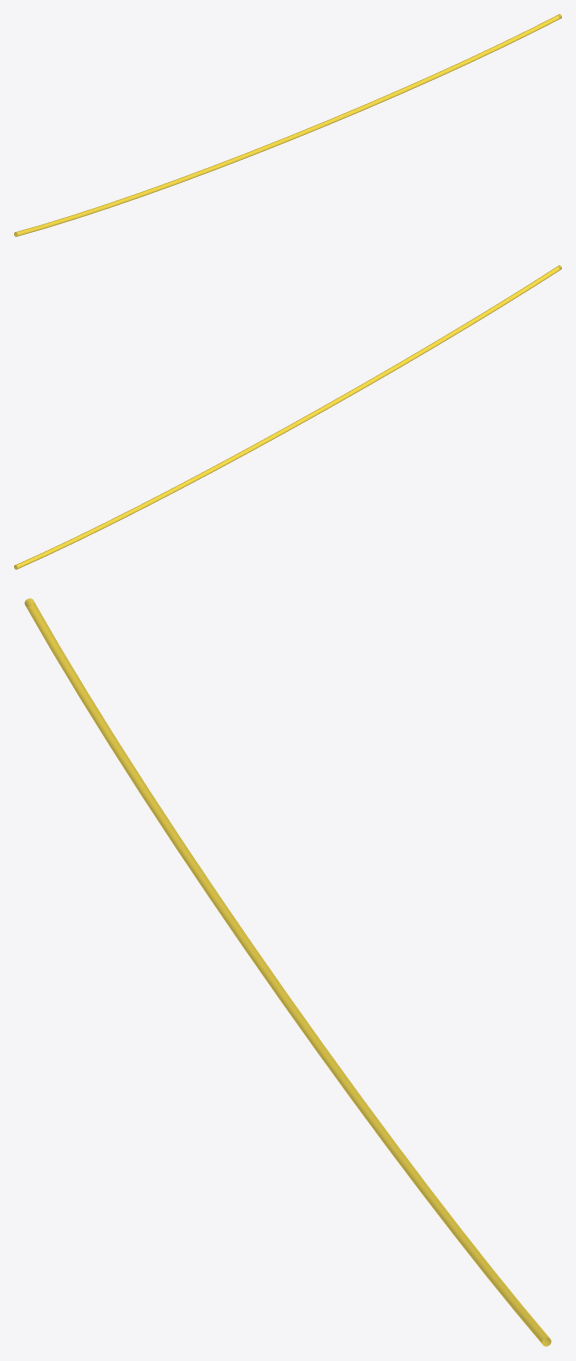
Rendered from Event_419990632_track_17.fbx.
The picture shows the model from 3 angles, top to bottom: view 1: azimuth 30°, elevation 25°; view 2: azimuth 210°, elevation 25°; view 3: azimuth 270°, elevation 25°; orthographic projection. The views are drawn at different scales.
Parts seen in each view (by area): view 1: Model; view 2: Model; view 3: Model.
Part boxes in pixels (x1=…): Model: x1=14, y1=14, x2=561, y2=236; Model: x1=14, y1=265, x2=561, y2=569; Model: x1=24, y1=598, x2=551, y2=1346.
Size of the model in its own units: 6.38 by 0.4187 by 2.16.
